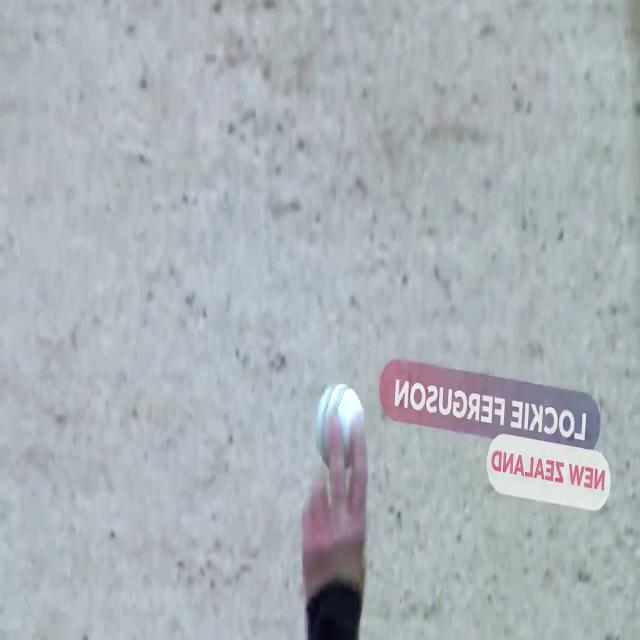ball: (312, 382, 368, 468)
